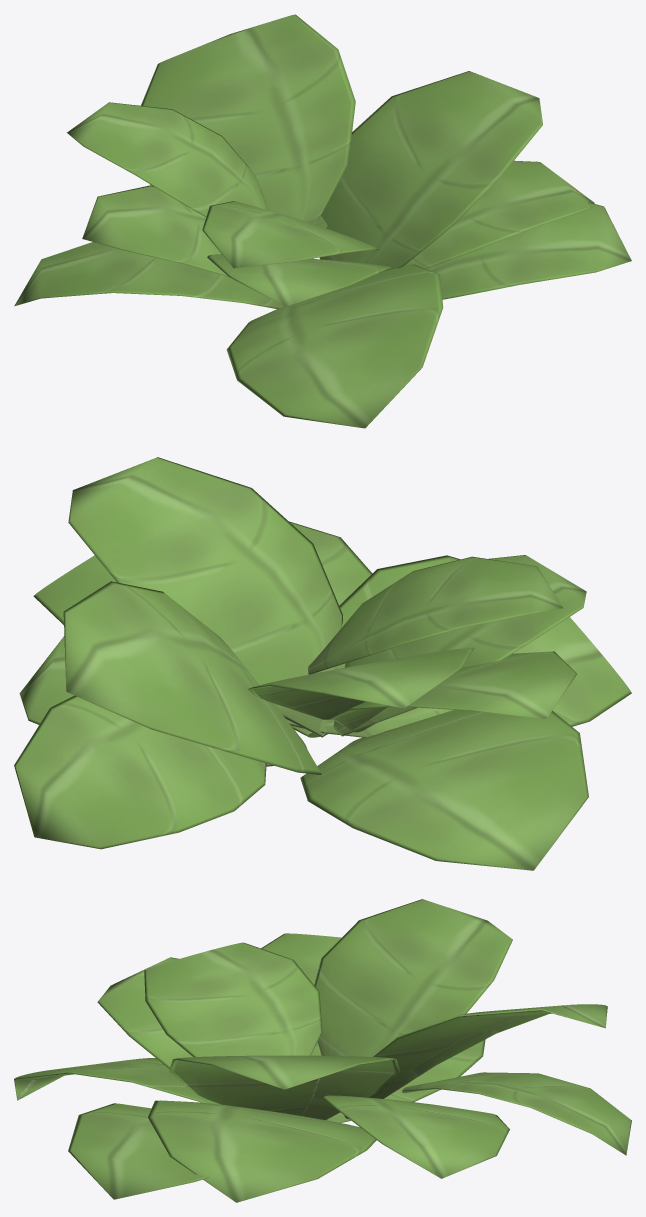
File: Struik.fbx
3 views of the same model, one above another, from view 1: azimuth 30°, elevation 25°; view 2: azimuth 150°, elevation 25°; view 3: azimuth 270°, elevation 25° (orthographic). The views are drawn at different scales.
Visible parts, largest first — view 1: pCylinder13; view 2: pCylinder13; view 3: pCylinder13.
Boxes of the visible parts, x1,y1,x2,y2 form: pCylinder13: [14, 14, 631, 428]; pCylinder13: [14, 457, 631, 870]; pCylinder13: [14, 899, 631, 1202].
Size of the model in its own units: 3.58 by 1.25 by 3.8.
1 material, 1 textured.
